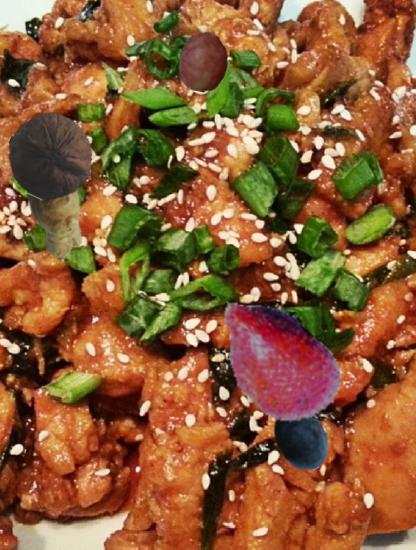Blueberry: (268, 403, 337, 472)
Ginger: (6, 160, 108, 262)
Grape: (174, 32, 235, 93)
Salak: (200, 286, 347, 433)
Walnut: (7, 112, 95, 200)
